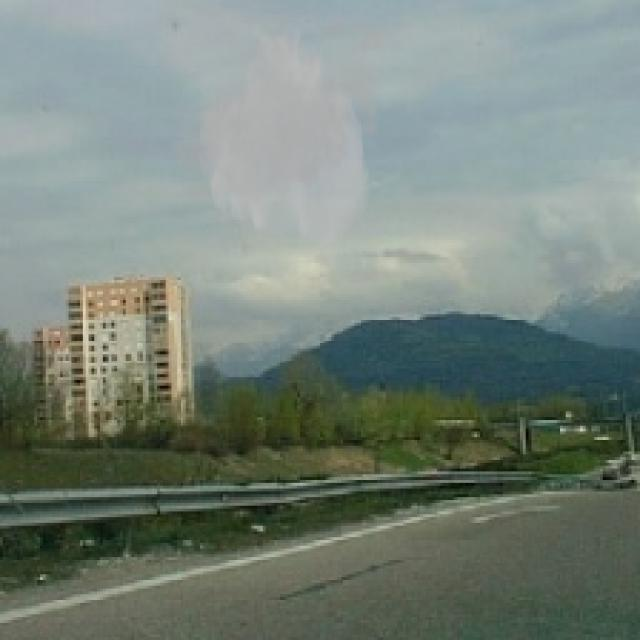smoke: (165, 0, 395, 255)
